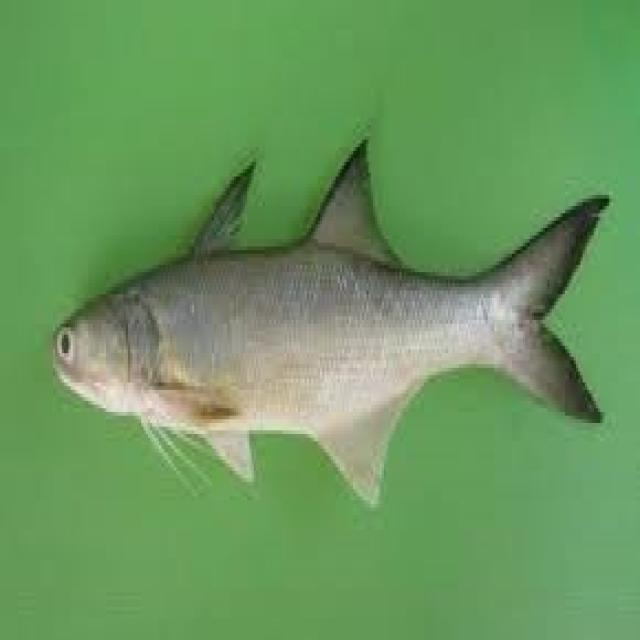Fourfinger-Threadfin: (38, 64, 626, 525)
